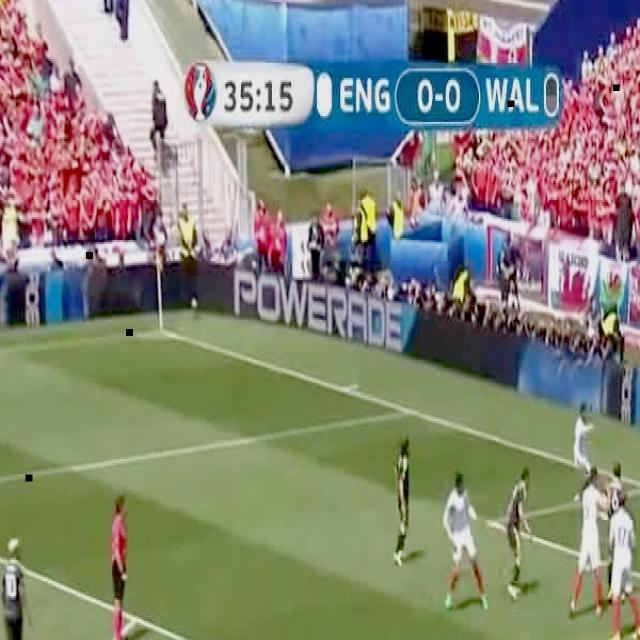player-white: (442, 472, 488, 610), (569, 469, 609, 619), (605, 491, 640, 640), (502, 468, 533, 597), (605, 462, 629, 606), (0, 537, 29, 640), (107, 491, 126, 640), (391, 438, 411, 566), (574, 402, 598, 499)
